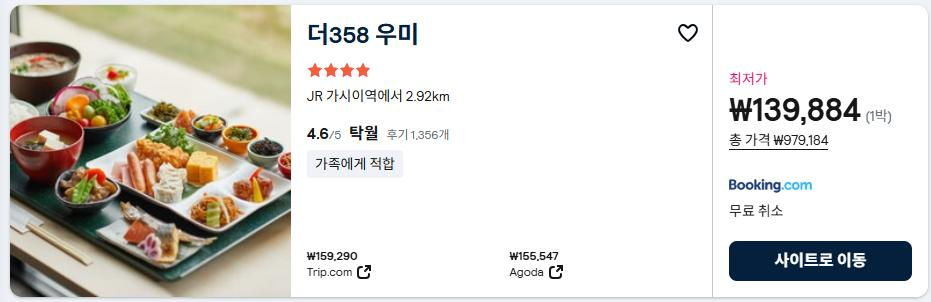button: (723, 234, 917, 289), (302, 265, 395, 285), (506, 263, 573, 284), (670, 16, 708, 50)
